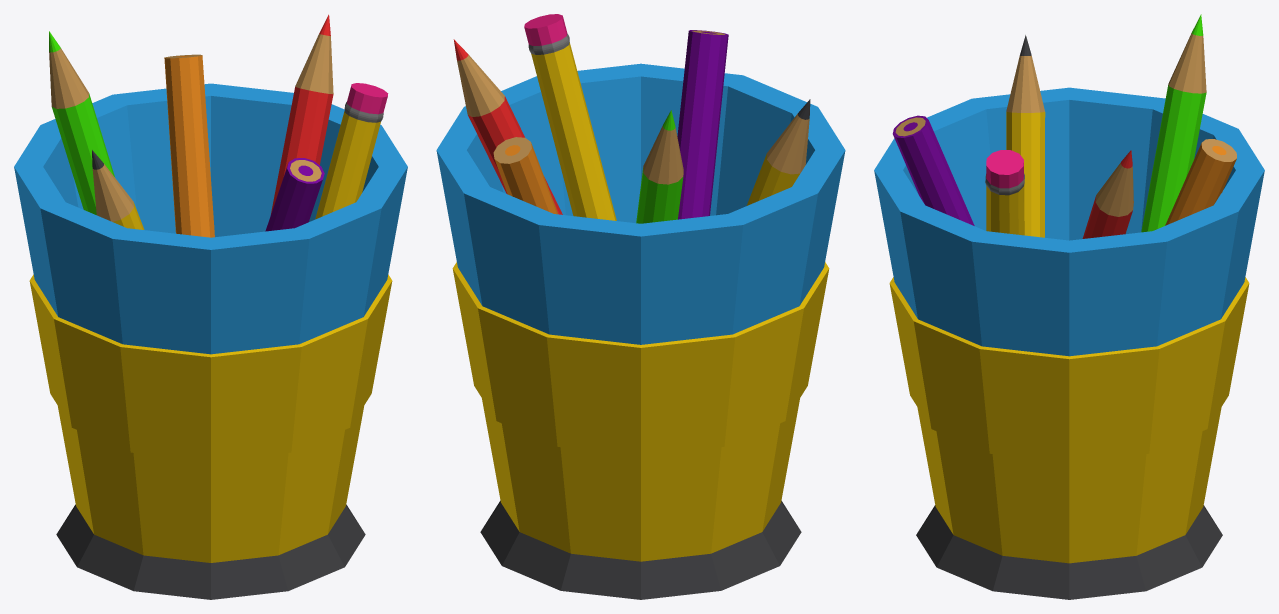
Rendered from Lapizero.fbx.
3 renders of one model, left to right at view 1: azimuth 30°, elevation 25°; view 2: azimuth 150°, elevation 25°; view 3: azimuth 270°, elevation 25°, orthographic. The views are drawn at different scales.
Parts seen in each view (by area): view 1: Lapizero; view 2: Lapizero; view 3: Lapizero.
Part boxes in pixels (bbox=[...]): Lapizero: bbox=[14, 14, 407, 599]; Lapizero: bbox=[436, 14, 845, 599]; Lapizero: bbox=[874, 14, 1264, 599].
Size of the model in its own units: 0.1329 by 0.1781 by 0.1329.
